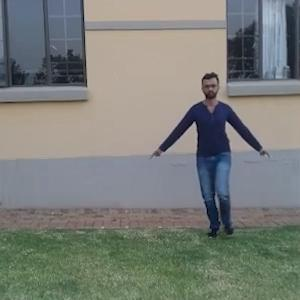land: (167, 79, 262, 224)
